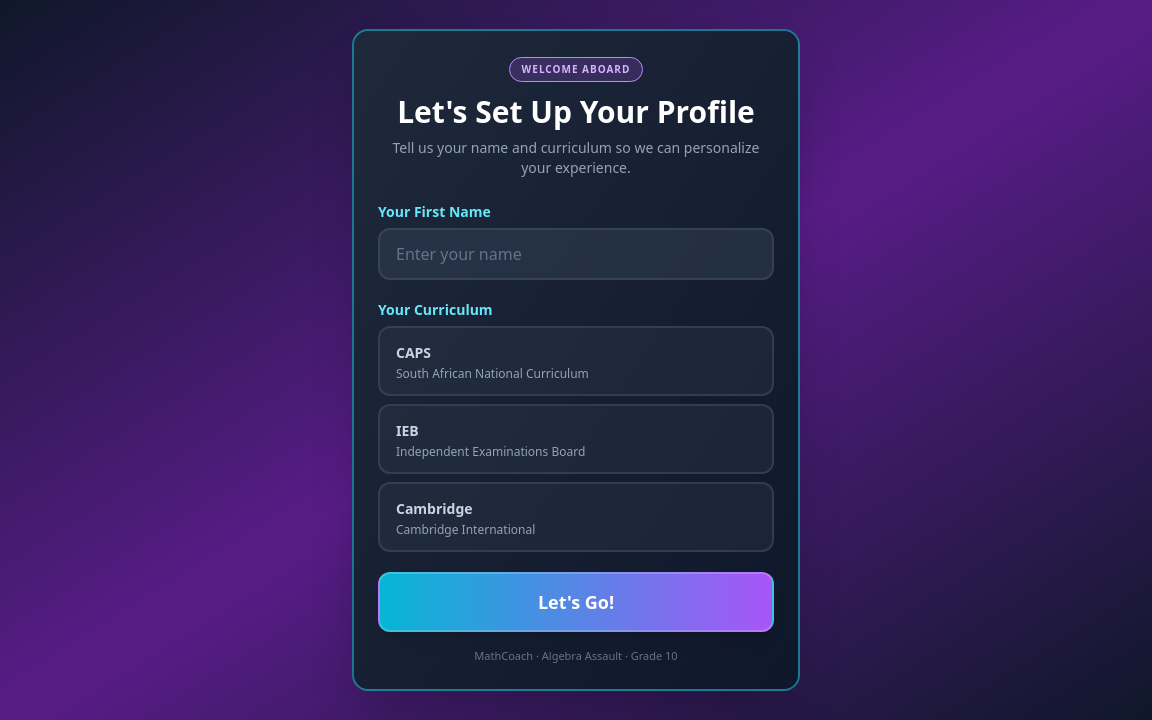
OnboardingScreen component › displays storage error and preserves form data on failure
Type "Sarah" into the field labelled "Your First Name". click: (576, 254)
box: x1=378 y1=228 x2=774 y2=280
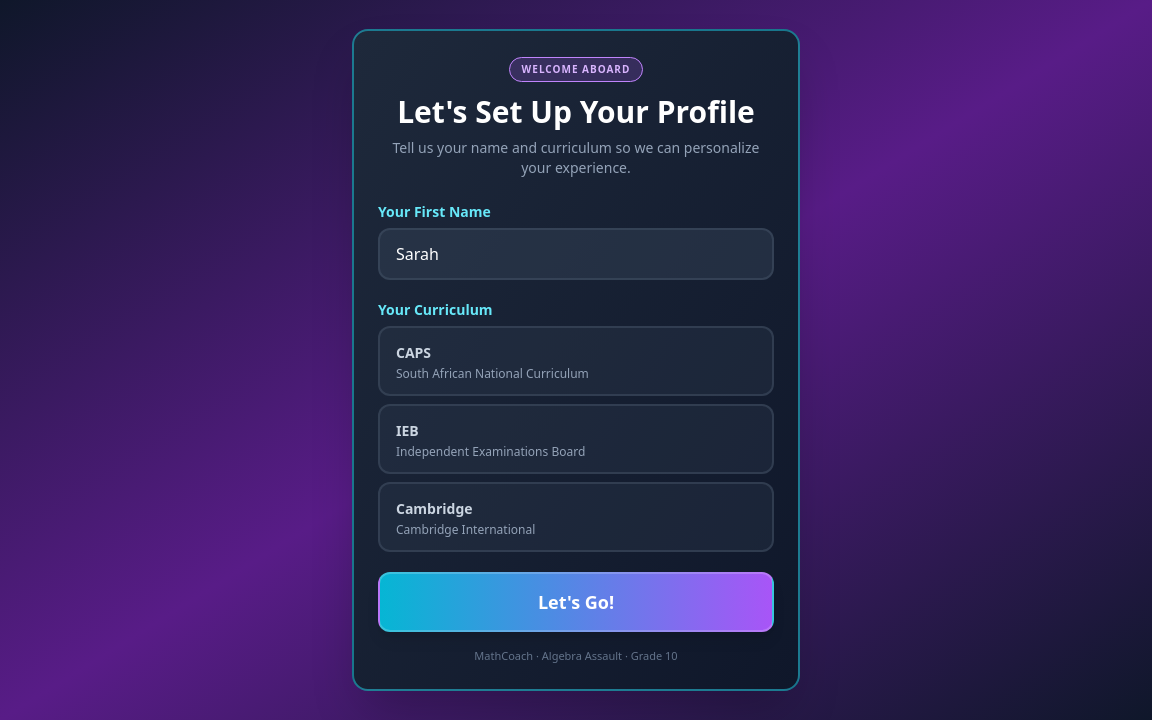
Click the text "IEB". click: click(407, 431)
box: x1=396 y1=421 x2=419 y2=440
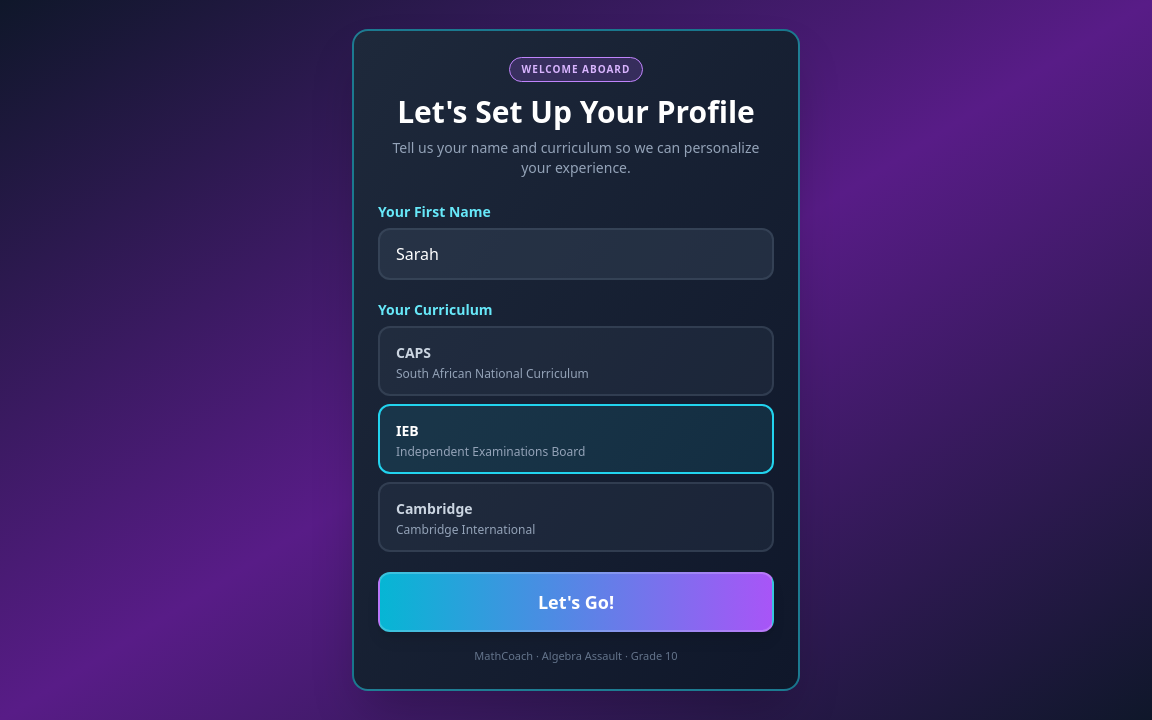
Click the button "Let's Go!". click: click(576, 602)
box: x1=378 y1=572 x2=774 y2=632
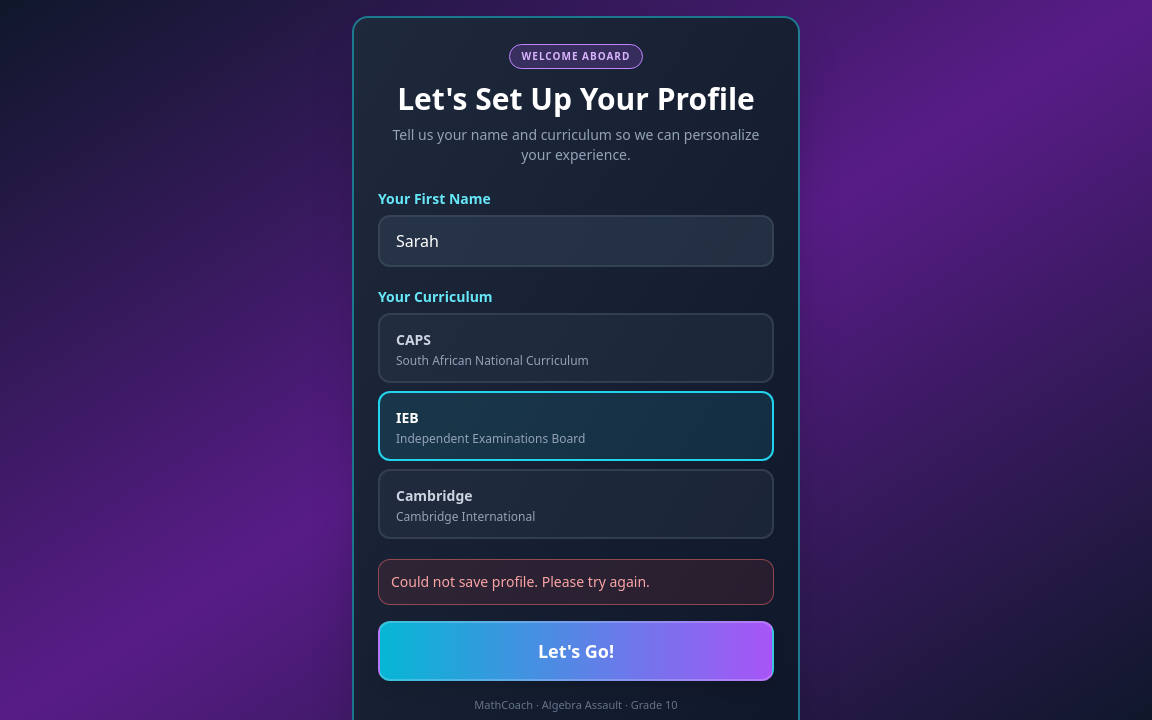
Check: the text "Could not save profile. Please try again." is shown, box x1=391 y1=572 x2=650 y2=591
